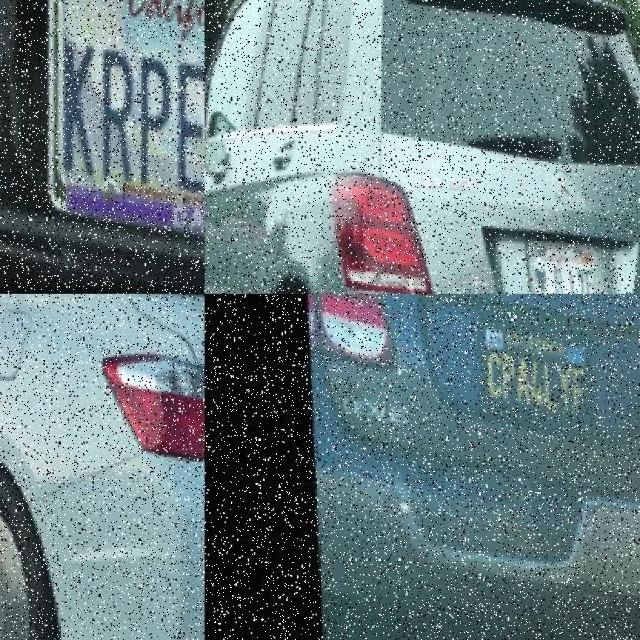licenseplate: (28, 0, 204, 243), (465, 308, 590, 422), (515, 232, 591, 294)
